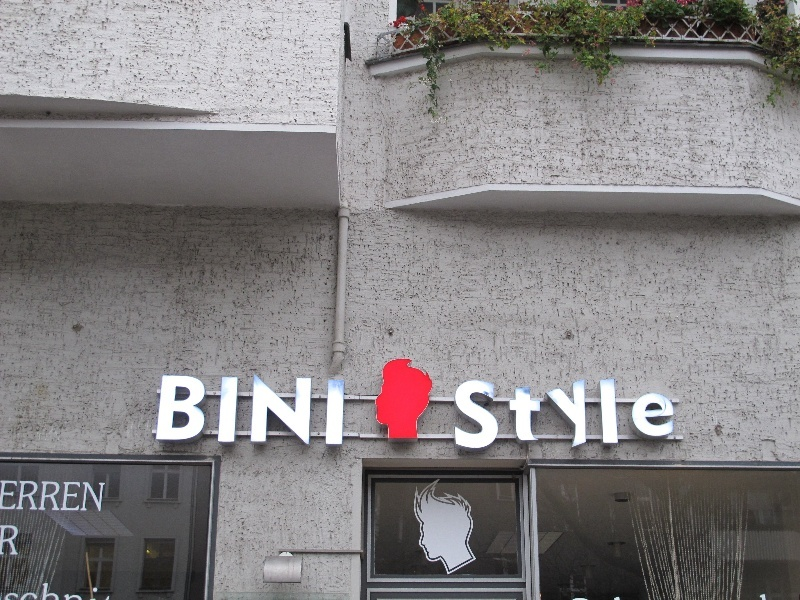text: (465, 378, 480, 451), (481, 378, 496, 451), (497, 378, 512, 451), (513, 378, 528, 451), (529, 378, 544, 451), (545, 378, 560, 451), (561, 378, 576, 451), (577, 378, 592, 451), (593, 378, 608, 451), (609, 378, 624, 451), (625, 378, 640, 451), (641, 378, 656, 451), (657, 378, 672, 451), (177, 375, 192, 447), (193, 375, 208, 447), (209, 375, 224, 447), (225, 375, 240, 447), (241, 375, 256, 447), (257, 375, 272, 447), (273, 375, 288, 447), (289, 375, 304, 447), (305, 375, 320, 447), (321, 375, 336, 447), (163, 375, 176, 447), (454, 378, 464, 451), (337, 375, 345, 447), (1, 479, 16, 513), (17, 479, 32, 513), (33, 479, 48, 513), (49, 479, 64, 513), (65, 479, 80, 513), (81, 479, 96, 513), (1, 526, 16, 555), (97, 479, 106, 513), (17, 583, 32, 600), (33, 583, 48, 600), (49, 583, 64, 600), (65, 583, 80, 600), (673, 378, 676, 451), (6, 583, 16, 600), (17, 526, 19, 555), (81, 583, 83, 600)
